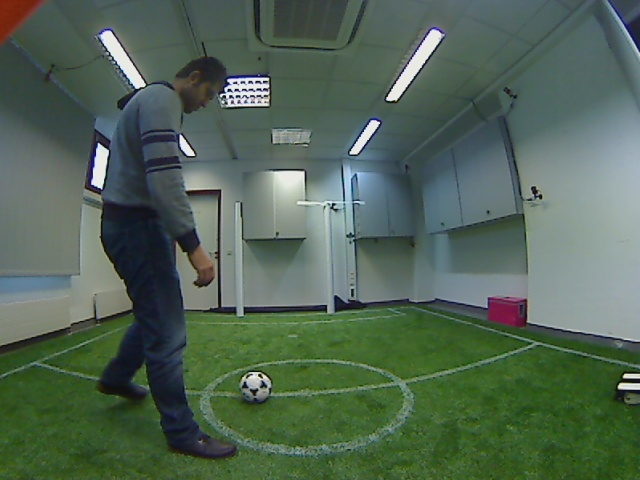ball: (236, 369, 274, 405)
